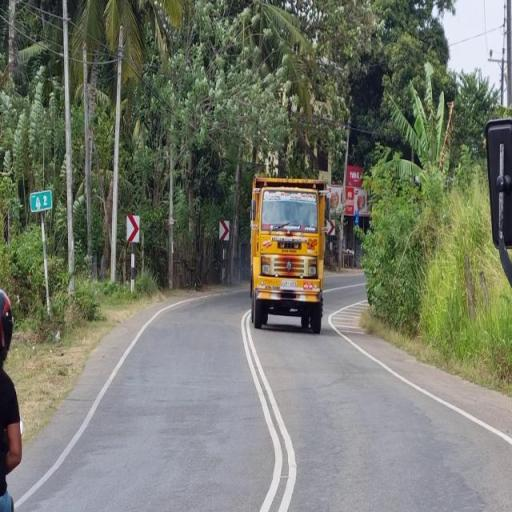double_white_line: (240, 304, 294, 510)
